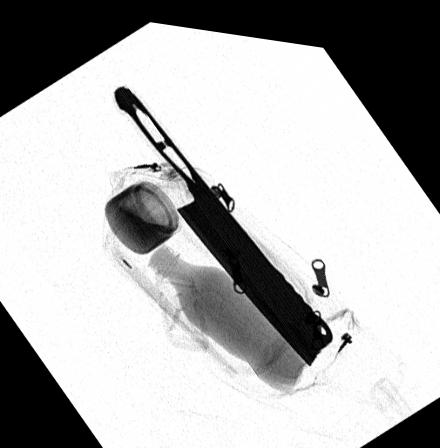Knife: (112, 80, 335, 358)
